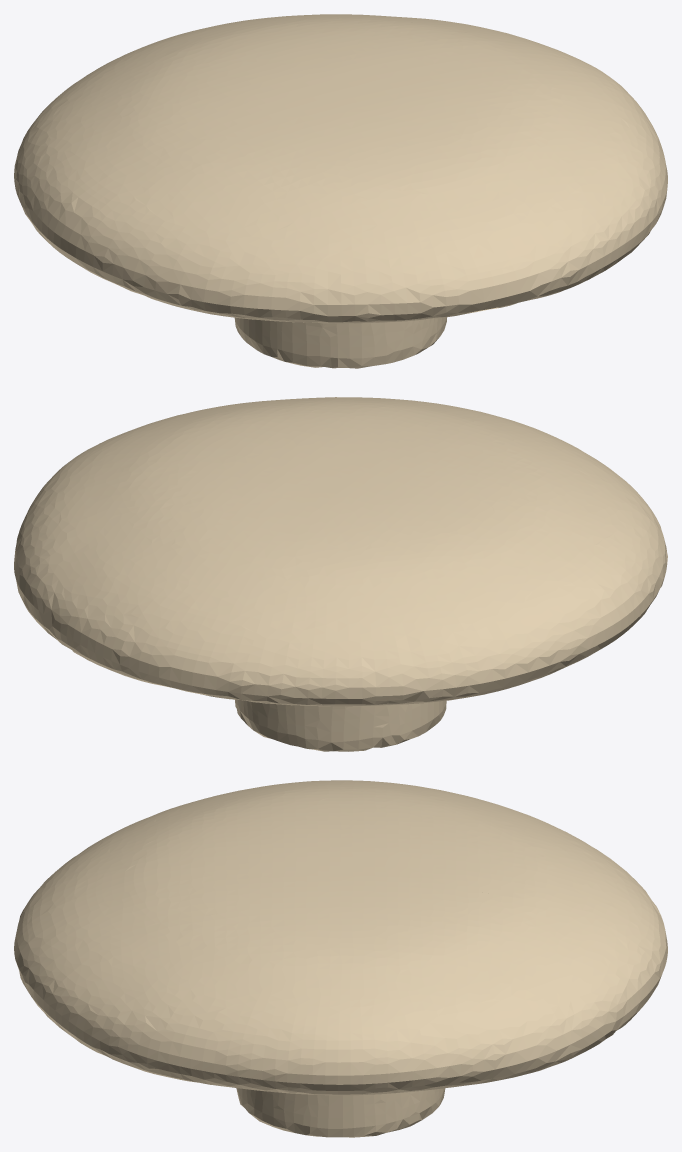
File: skulptur-07.glb
3 views of the same model, one above another, from view 1: azimuth 30°, elevation 25°; view 2: azimuth 150°, elevation 25°; view 3: azimuth 270°, elevation 25° (orthographic).
Parts seen in each view (by area): view 1: skulptur-07; view 2: skulptur-07; view 3: skulptur-07.
Boxes of the visible parts, x1=… form: skulptur-07: x1=14, y1=14, x2=667, y2=368; skulptur-07: x1=14, y1=397, x2=667, y2=751; skulptur-07: x1=14, y1=780, x2=667, y2=1137.
Size of the model in its own units: 0.9934 by 0.3997 by 0.9981.
